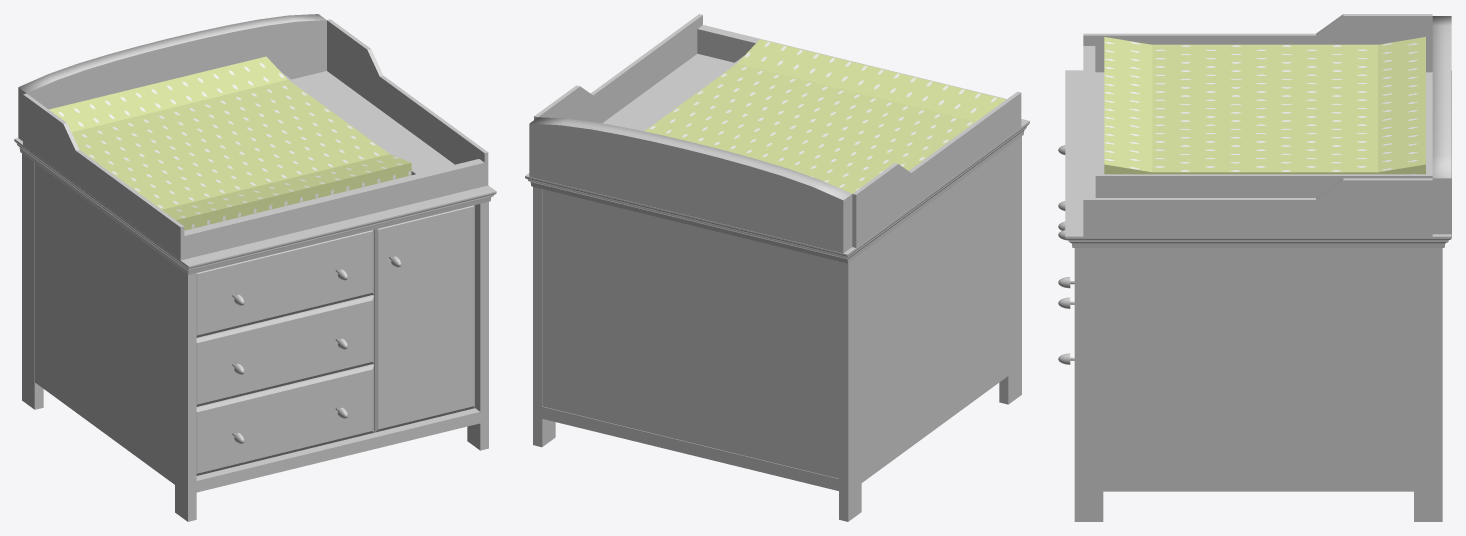
File: sh-scopia-changing-table.glb
3 views of the same model, side by side, from view 1: azimuth 30°, elevation 25°; view 2: azimuth 150°, elevation 25°; view 3: azimuth 270°, elevation 25° (orthographic). The views are drawn at different scales.
Parts seen in each view (by area): view 1: Cube.001, Cube.002_Cube.011; view 2: Cube.001, Cube.002_Cube.011; view 3: Cube.001, Cube.002_Cube.011.
Boxes of the visible parts, x1,y1,x2,y2 form: Cube.001: (14,14,496,521); Cube.002_Cube.011: (49,56,411,230); Cube.001: (525,14,1029,521); Cube.002_Cube.011: (644,39,1006,193); Cube.001: (1058,14,1451,521); Cube.002_Cube.011: (1104,37,1425,174).
Bounding box in the file's own units: 1 × 1 × 1.
2 materials, 1 textured.
